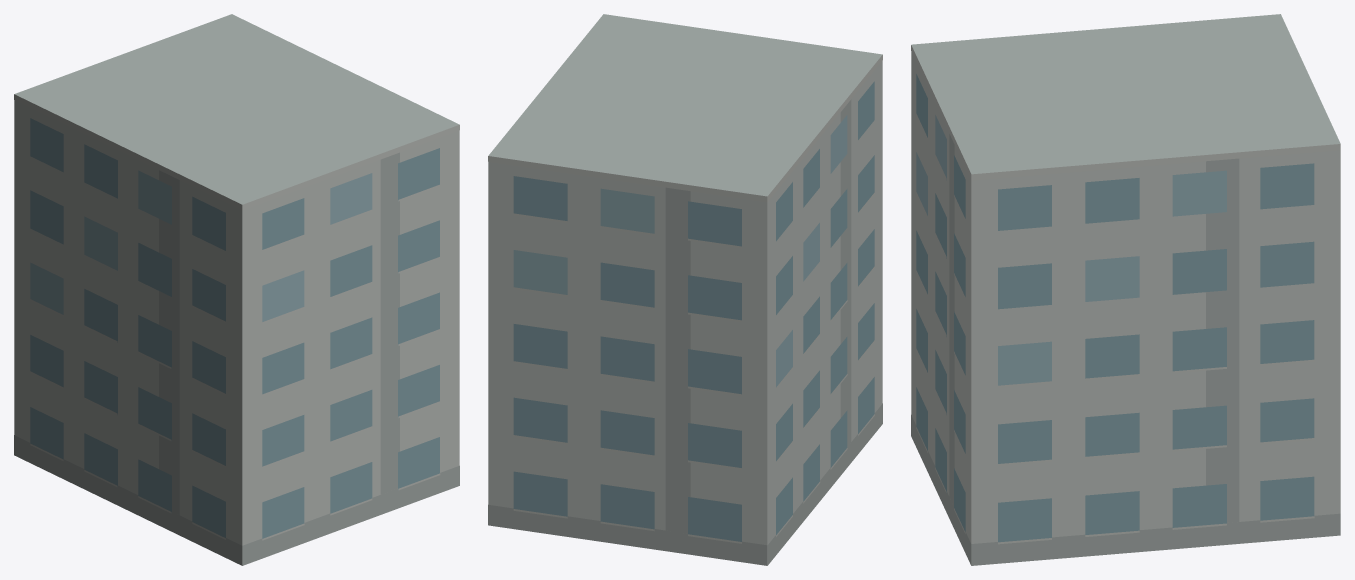
File: residential-e8db7631-e91f-4c49-9731-932426226393.glb
3 renders of one model, left to right at view 1: azimuth 30°, elevation 25°; view 2: azimuth 150°, elevation 25°; view 3: azimuth 270°, elevation 25°, orthographic. The views are drawn at different scales.
Parts seen in each view (by area): view 1: residential-e8db7631-e91f-4c49-9731-932426226393.tmp; view 2: residential-e8db7631-e91f-4c49-9731-932426226393.tmp; view 3: residential-e8db7631-e91f-4c49-9731-932426226393.tmp.
Part boxes in pixels (x1,y1,x2,y2): residential-e8db7631-e91f-4c49-9731-932426226393.tmp: (14, 14, 459, 565); residential-e8db7631-e91f-4c49-9731-932426226393.tmp: (488, 14, 882, 565); residential-e8db7631-e91f-4c49-9731-932426226393.tmp: (911, 14, 1340, 565).
Size of the model in its own units: 13.4 by 15.25 by 15.17.
